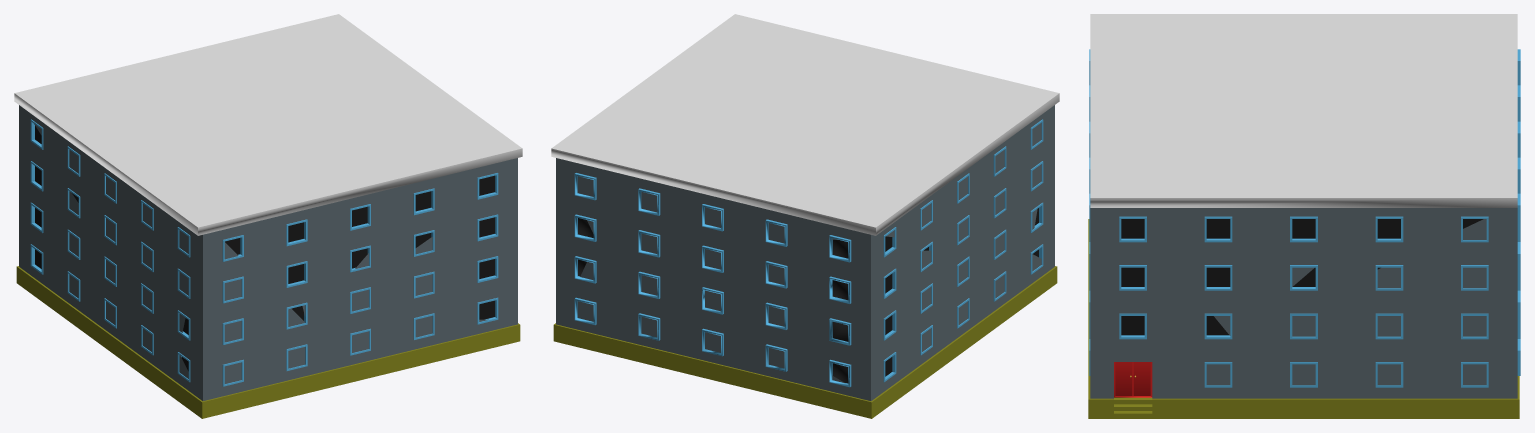
3 views of the same model, side by side, from view 1: azimuth 30°, elevation 25°; view 2: azimuth 150°, elevation 25°; view 3: azimuth 270°, elevation 25° (orthographic). The views are drawn at different scales.
Parts seen in each view (by area): view 1: BD20_F06_01; view 2: BD20_F06_01; view 3: BD20_F06_01.
Boxes of the visible parts, x1,y1,x2,y2 form: BD20_F06_01: (14, 14, 522, 418); BD20_F06_01: (551, 14, 1059, 418); BD20_F06_01: (1088, 14, 1520, 418).
Size of the model in its own units: 2040 by 1150 by 2025.
